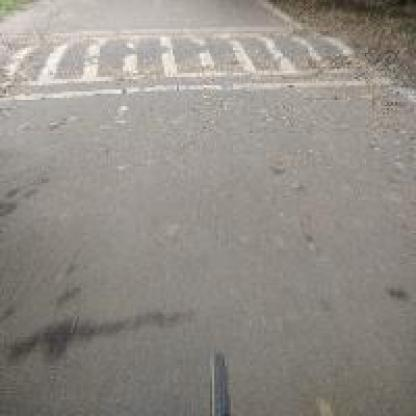Speed Bump: (0, 23, 391, 102)
